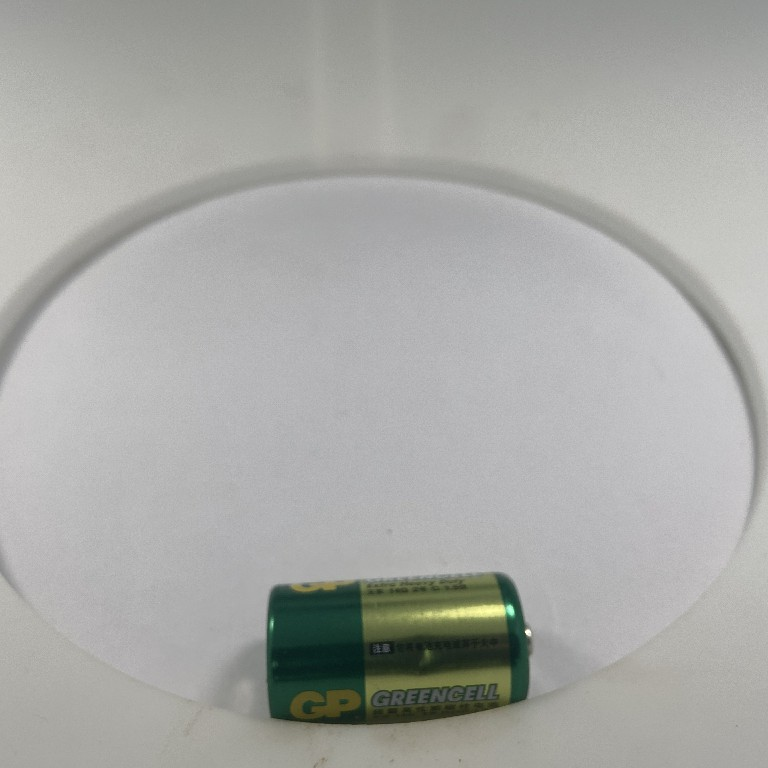charge: (256, 565, 542, 731)
